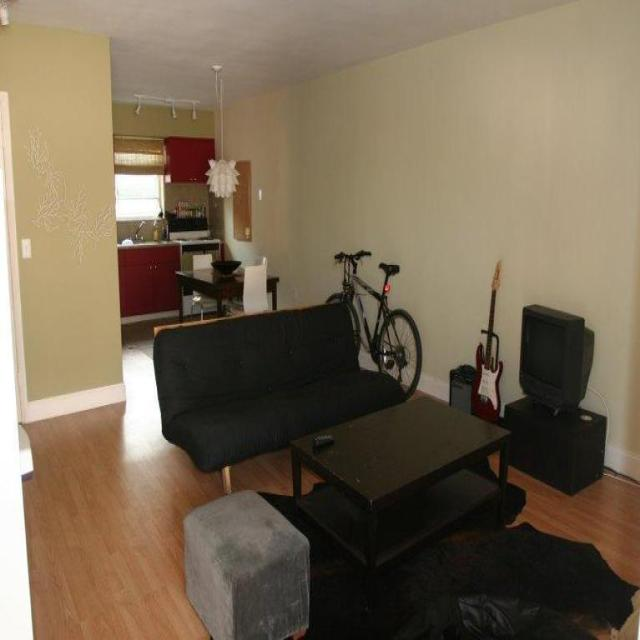cupboard: (117, 242, 181, 318)
faucet: (134, 219, 146, 240)
lamps: (203, 64, 240, 198), (132, 92, 199, 120)
rugs: (254, 482, 638, 638)
sofa: (152, 300, 406, 495)
table: (289, 394, 512, 608), (174, 266, 279, 320)
television: (518, 303, 594, 417)
window: (113, 135, 165, 221)
